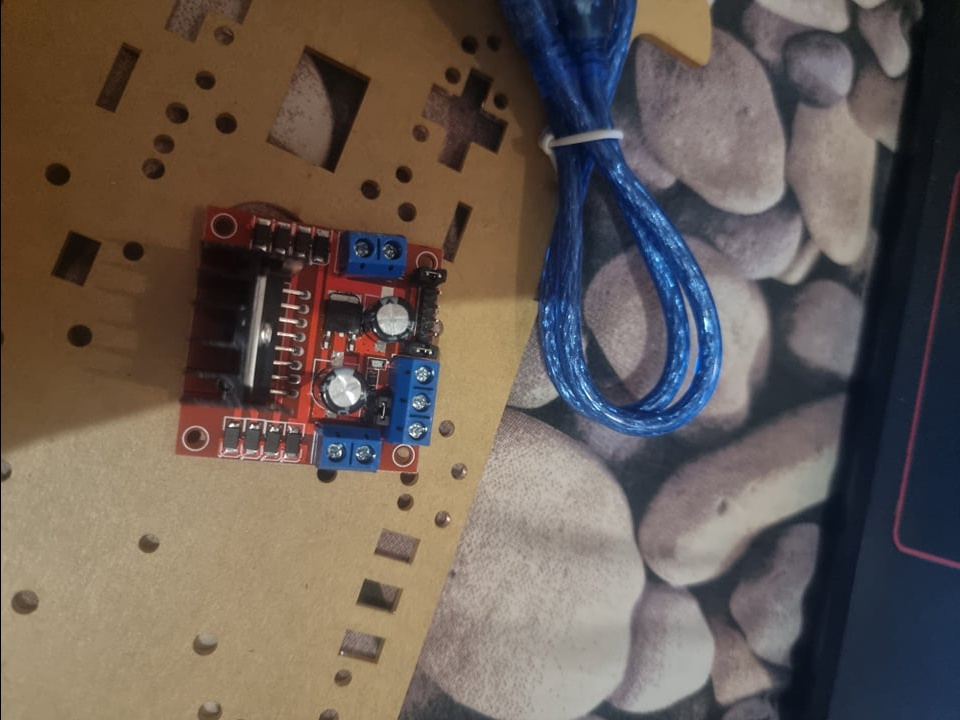MOTOR: (173, 206, 450, 475)
